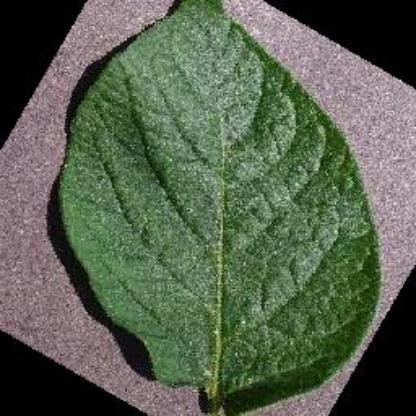Healthy-plant: (53, 1, 406, 405)
